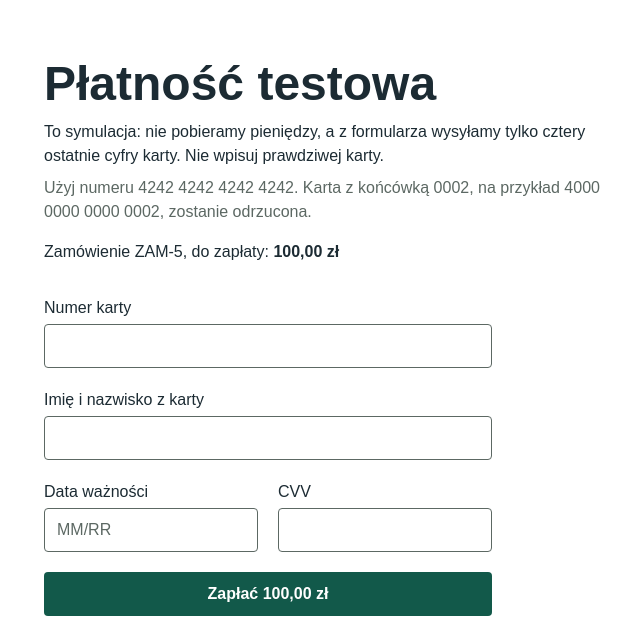
Scenario: PaymentPage › sends only the last four digits
The image size is (617, 633).
expect the button "Zapłać 100,00 zł" is shown: met, box [44, 572, 492, 616]
Step 1. Type "4242 4242 4242 4242" into the field labelled "Numer karty" → {"x": 268, "y": 346}, box [44, 324, 492, 368]
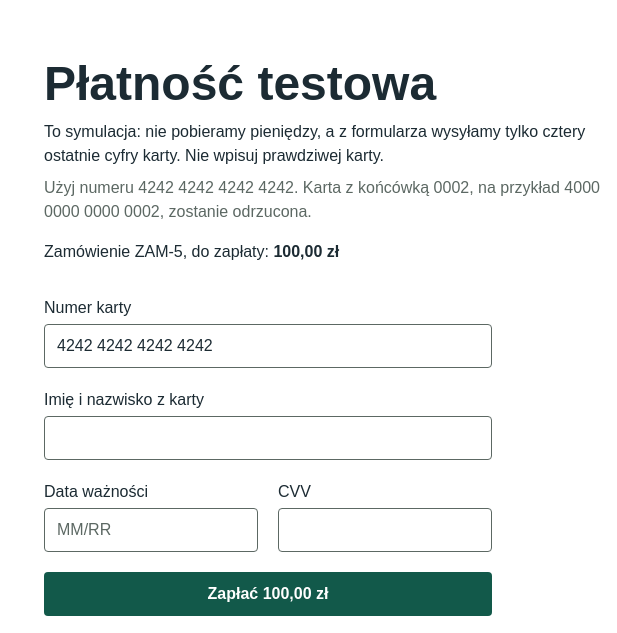
Step 2. Type "Anna Nowak" into the field labelled "Imię i nazwisko z karty" → {"x": 268, "y": 438}, box [44, 416, 492, 460]
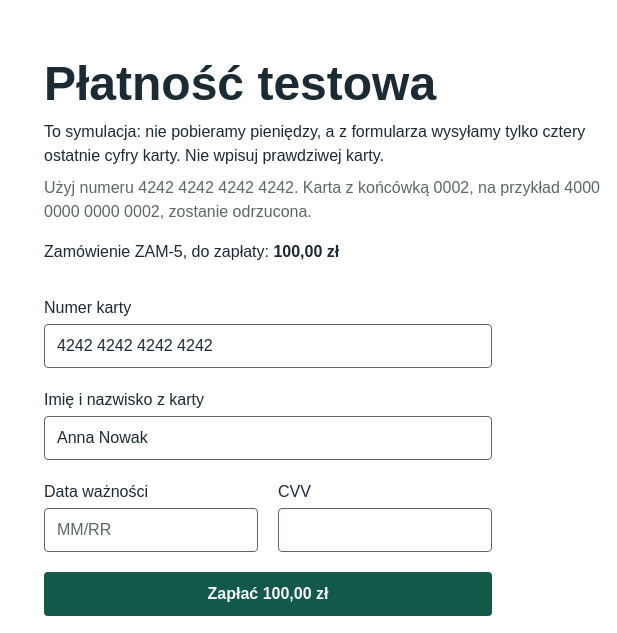
Step 3. Type "12/40" into the field labelled "Data ważności" → {"x": 151, "y": 530}, box [44, 508, 258, 552]
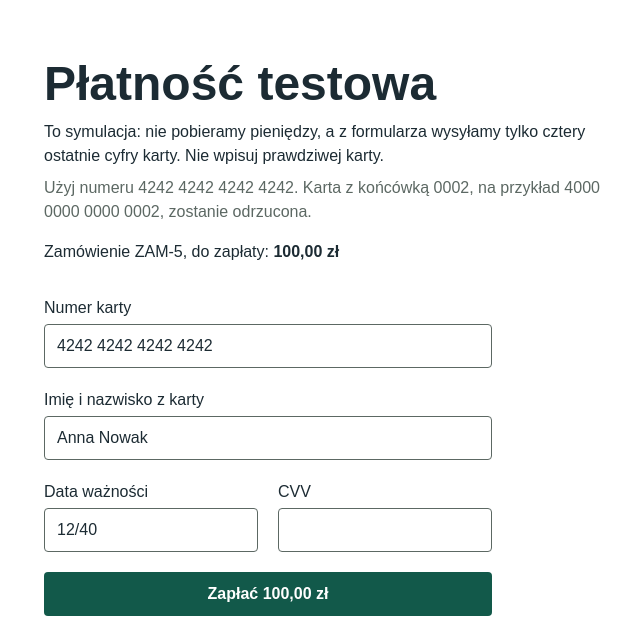
Step 4. Type "123" into the field labelled "CVV" → {"x": 385, "y": 530}, box [278, 508, 492, 552]
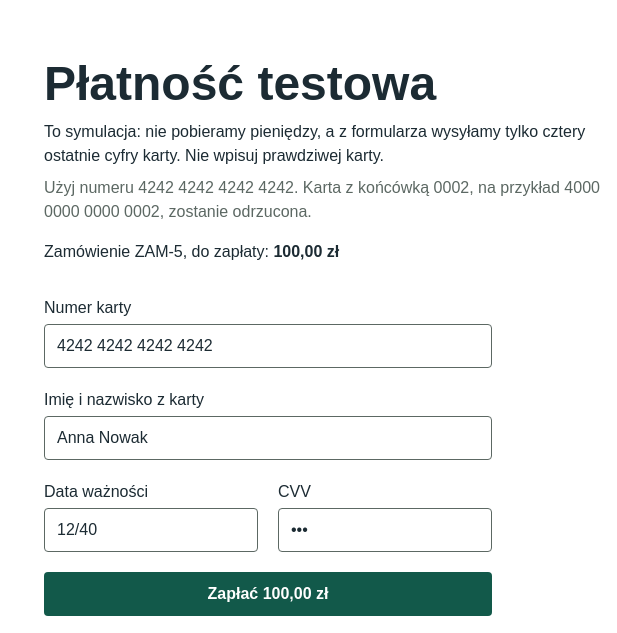
Step 5. Click the button "Zapłać 100,00 zł" → {"x": 268, "y": 594}, box [44, 572, 492, 616]
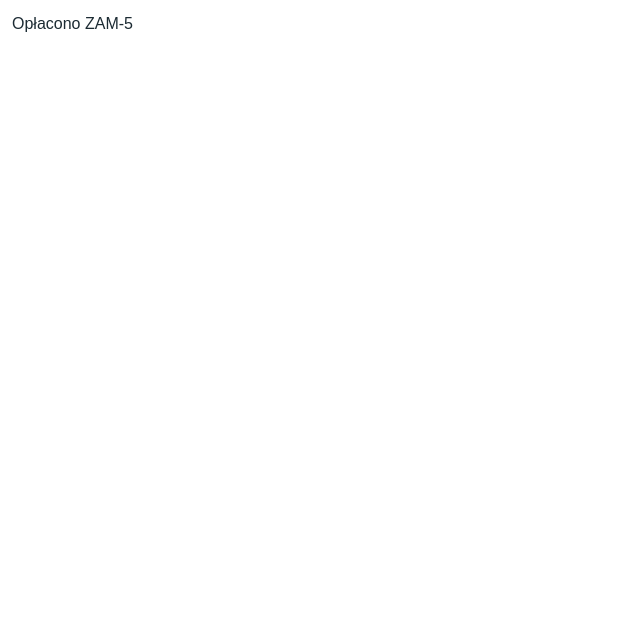
expect the text "Opłacono ZAM-5" is shown: met, box [12, 15, 133, 32]
